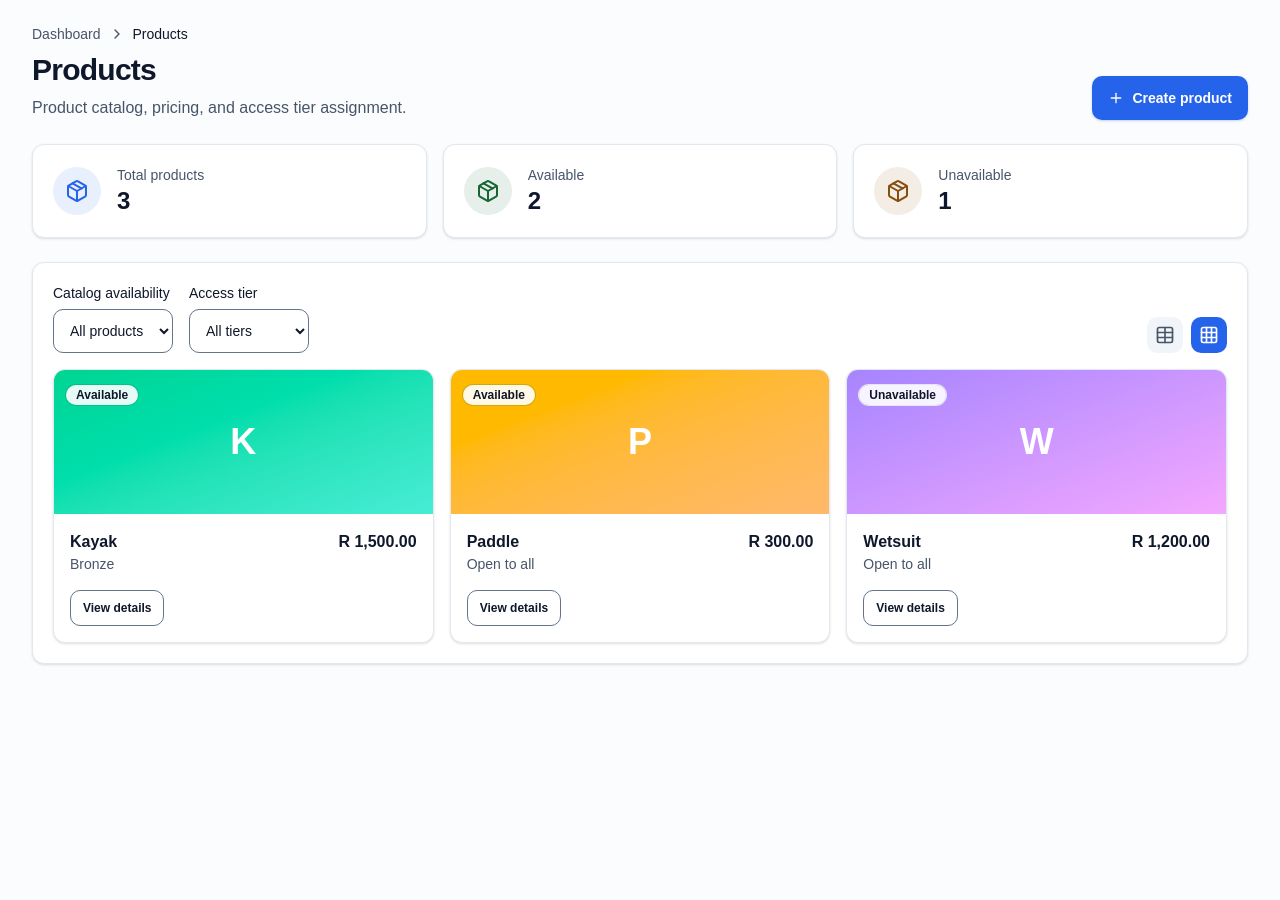
Test: ProductsCatalog › filters products by catalog availability
Select "Available" in the dropdown labelled "Catalog availability" at (113, 331), box [53,309,173,353]
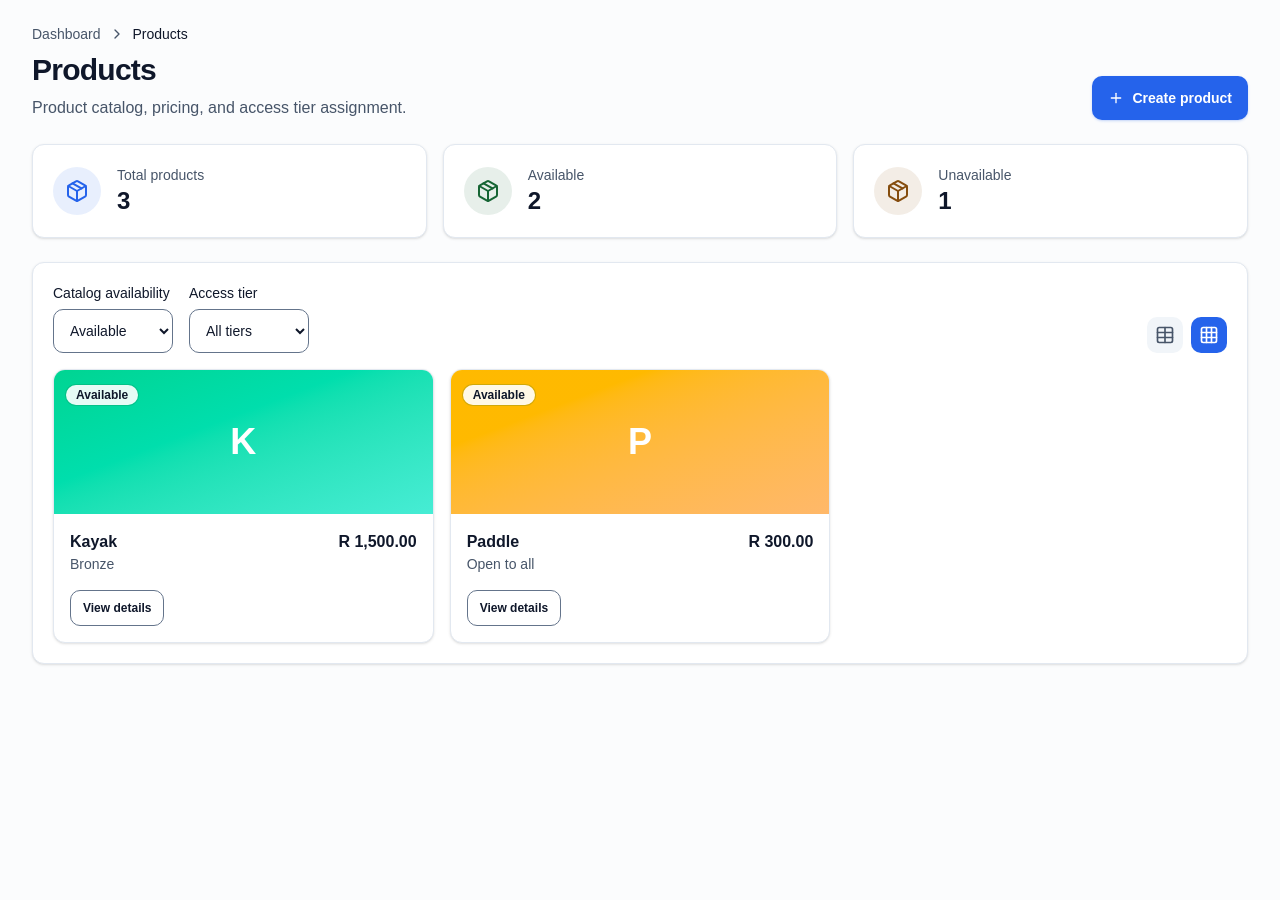
Expected: the heading "Kayak" is shown, [70,530,117,554]
Now the heading "Wetsuit" is gone
